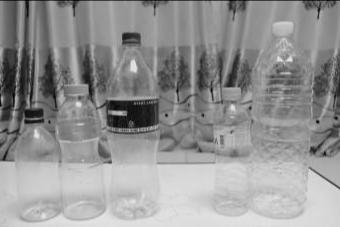bottle: (248, 19, 315, 218), (101, 31, 161, 219), (53, 83, 103, 218), (211, 87, 250, 215), (13, 108, 56, 221)
